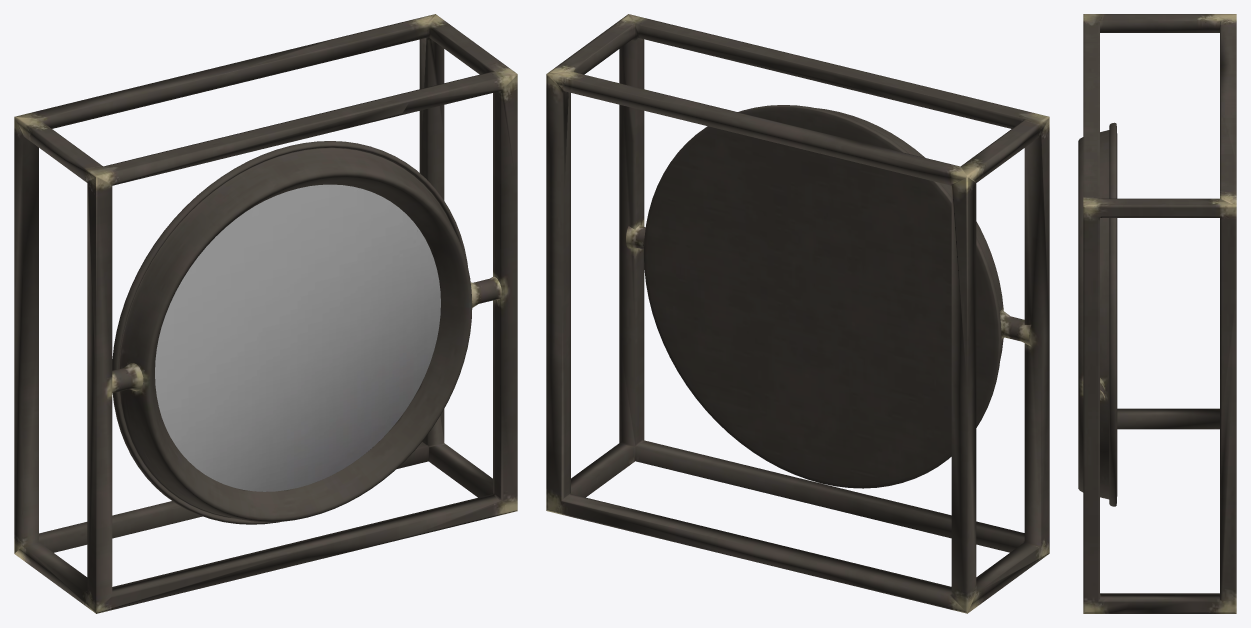
File: B073WGSN2W.glb
3 renders of one model, left to right at view 1: azimuth 30°, elevation 25°; view 2: azimuth 150°, elevation 25°; view 3: azimuth 270°, elevation 25°, orthographic. The views are drawn at different scales.
Parts seen in each view (by area): view 1: RootNode; view 2: RootNode; view 3: RootNode.
Part boxes in pixels (box(x1,y1,x2,y2)): RootNode: box(14, 14, 517, 613); RootNode: box(546, 14, 1049, 613); RootNode: box(1078, 14, 1236, 613).
Bounding box in the file's own units: 0.3056 × 0.303 × 0.1065.
1 material, 1 textured.
